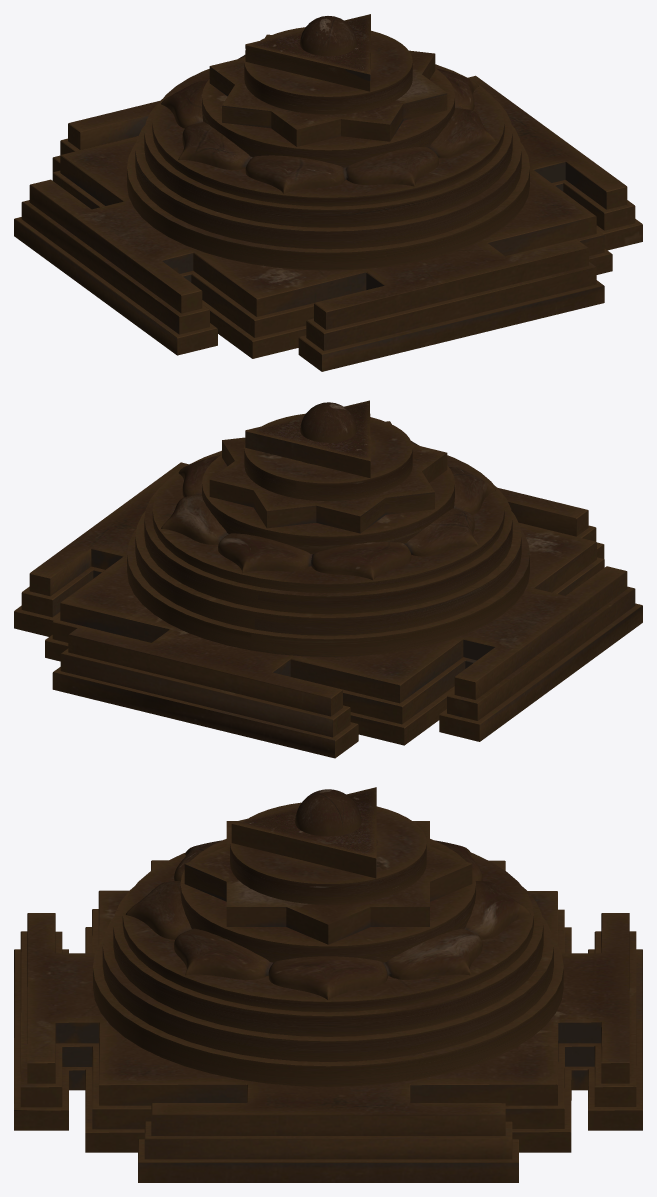
3 renders of one model, top to bottom at view 1: azimuth 30°, elevation 25°; view 2: azimuth 150°, elevation 25°; view 3: azimuth 270°, elevation 25°, orthographic. The views are drawn at different scales.
Visible parts, largest first — view 1: Object001_DD1_0; view 2: Object001_DD1_0; view 3: Object001_DD1_0.
Boxes of the visible parts, <box> form: Object001_DD1_0: <box>14,14,642,371</box>; Object001_DD1_0: <box>14,400,642,758</box>; Object001_DD1_0: <box>14,787,642,1182</box>.
Size of the model in its own units: 661 by 299 by 661.
Materials: 1 (1 with a texture image).
